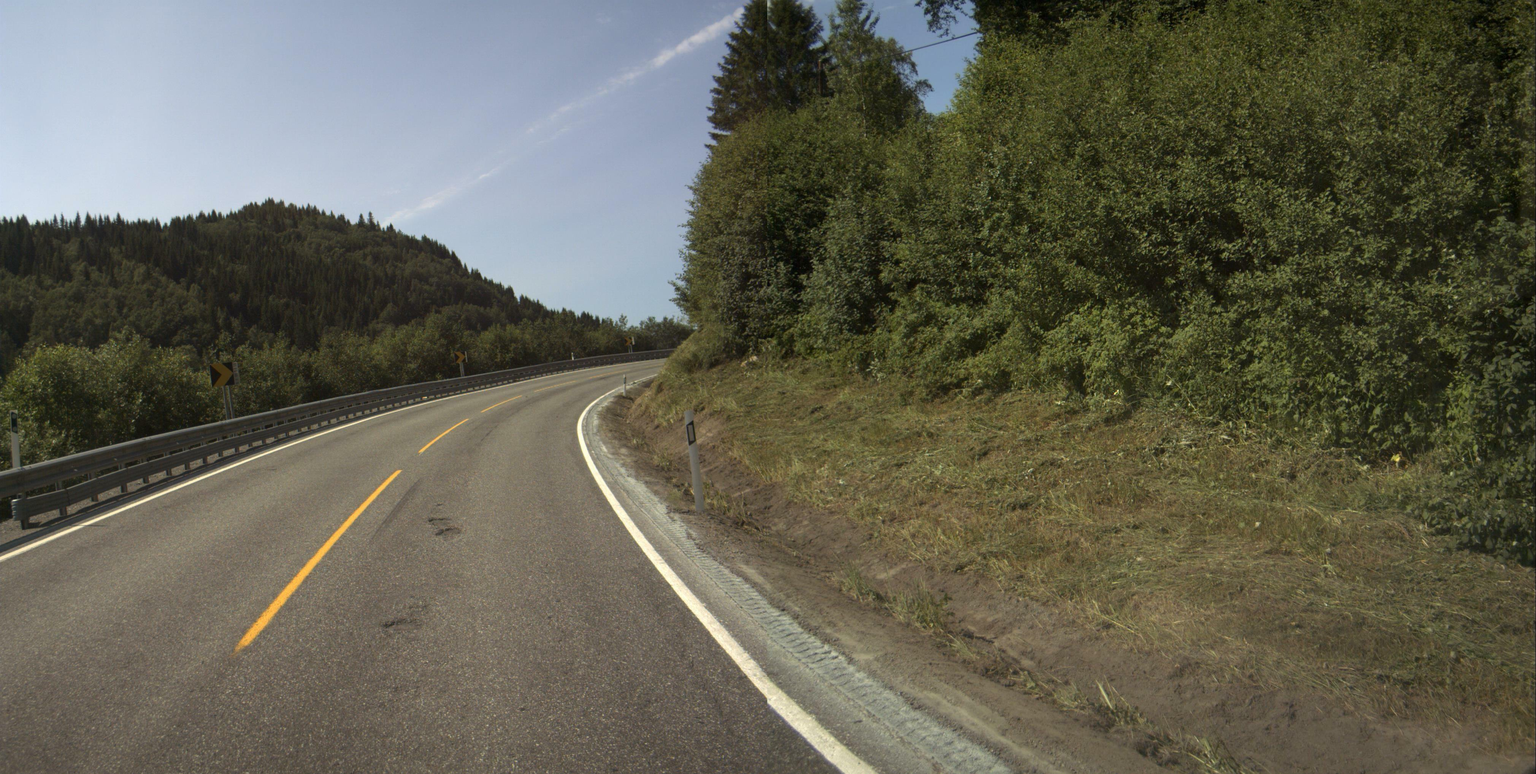pothole: (382, 614, 419, 633), (434, 526, 462, 539), (427, 516, 453, 529)
